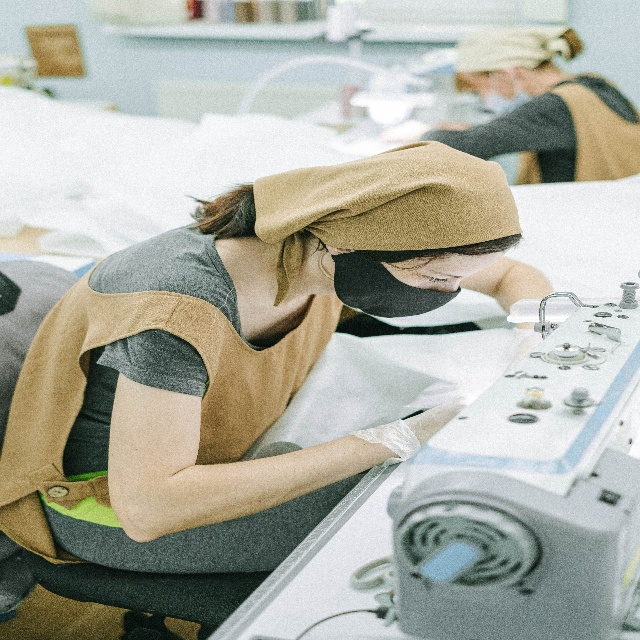Guantes: (402, 393, 472, 463)
Mascara: (328, 250, 524, 319), (459, 72, 535, 109)
